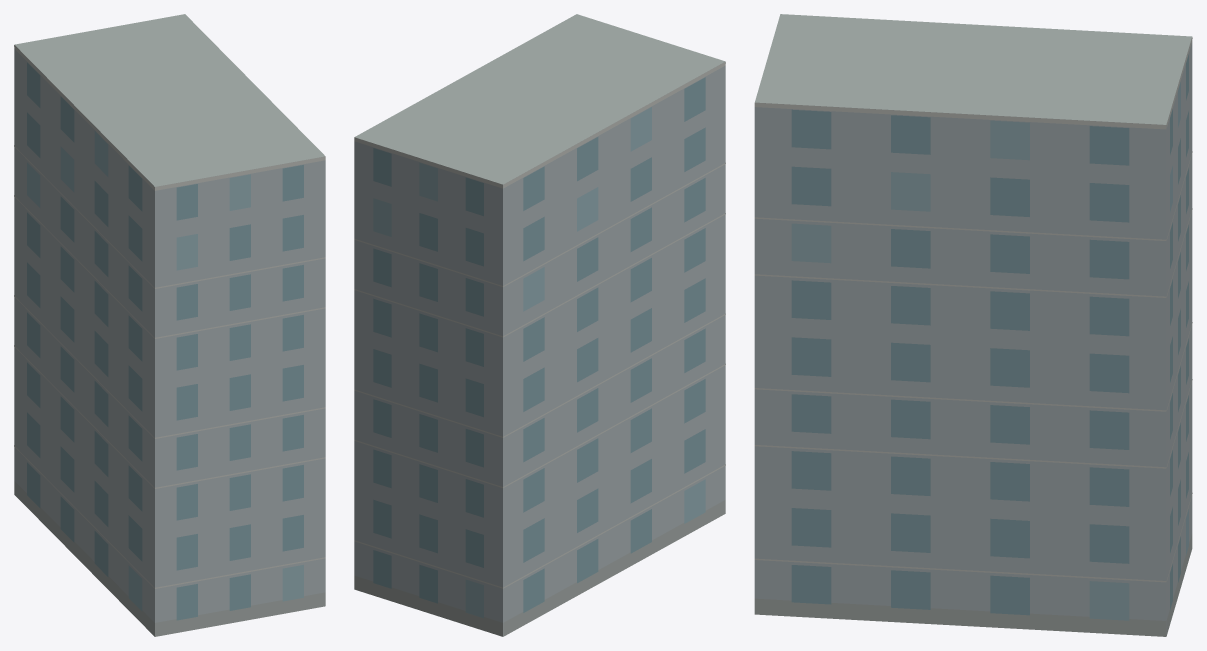
Rendered from residential-c62d18d2-4aad-4b60-a913-b7d4ad9bee9d.glb.
3 views of the same model, side by side, from view 1: azimuth 30°, elevation 25°; view 2: azimuth 150°, elevation 25°; view 3: azimuth 270°, elevation 25° (orthographic). The views are drawn at different scales.
Visible parts, largest first — view 1: residential-c62d18d2-4aad-4b60-a913-b7d4ad9bee9d.tmp; view 2: residential-c62d18d2-4aad-4b60-a913-b7d4ad9bee9d.tmp; view 3: residential-c62d18d2-4aad-4b60-a913-b7d4ad9bee9d.tmp.
Part boxes in pixels (<box>): residential-c62d18d2-4aad-4b60-a913-b7d4ad9bee9d.tmp: <box>14,14,325,636</box>; residential-c62d18d2-4aad-4b60-a913-b7d4ad9bee9d.tmp: <box>354,14,725,636</box>; residential-c62d18d2-4aad-4b60-a913-b7d4ad9bee9d.tmp: <box>754,14,1192,636</box>.
Bounding box in the file's own units: 12.78 × 27.45 × 21.29.
